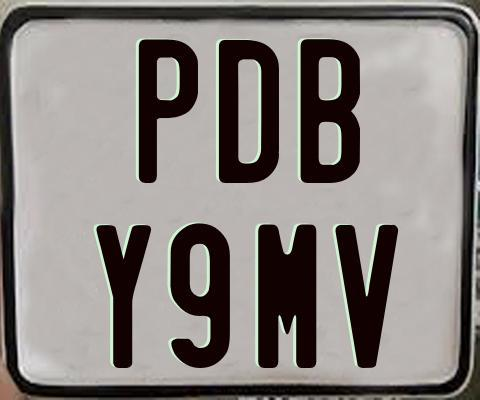9: (169, 222, 234, 370)
B: (301, 38, 362, 187)
D: (219, 37, 285, 180)
M: (258, 221, 323, 368)
P: (139, 38, 201, 185)
V: (332, 224, 399, 369)
Y: (95, 225, 152, 368)
